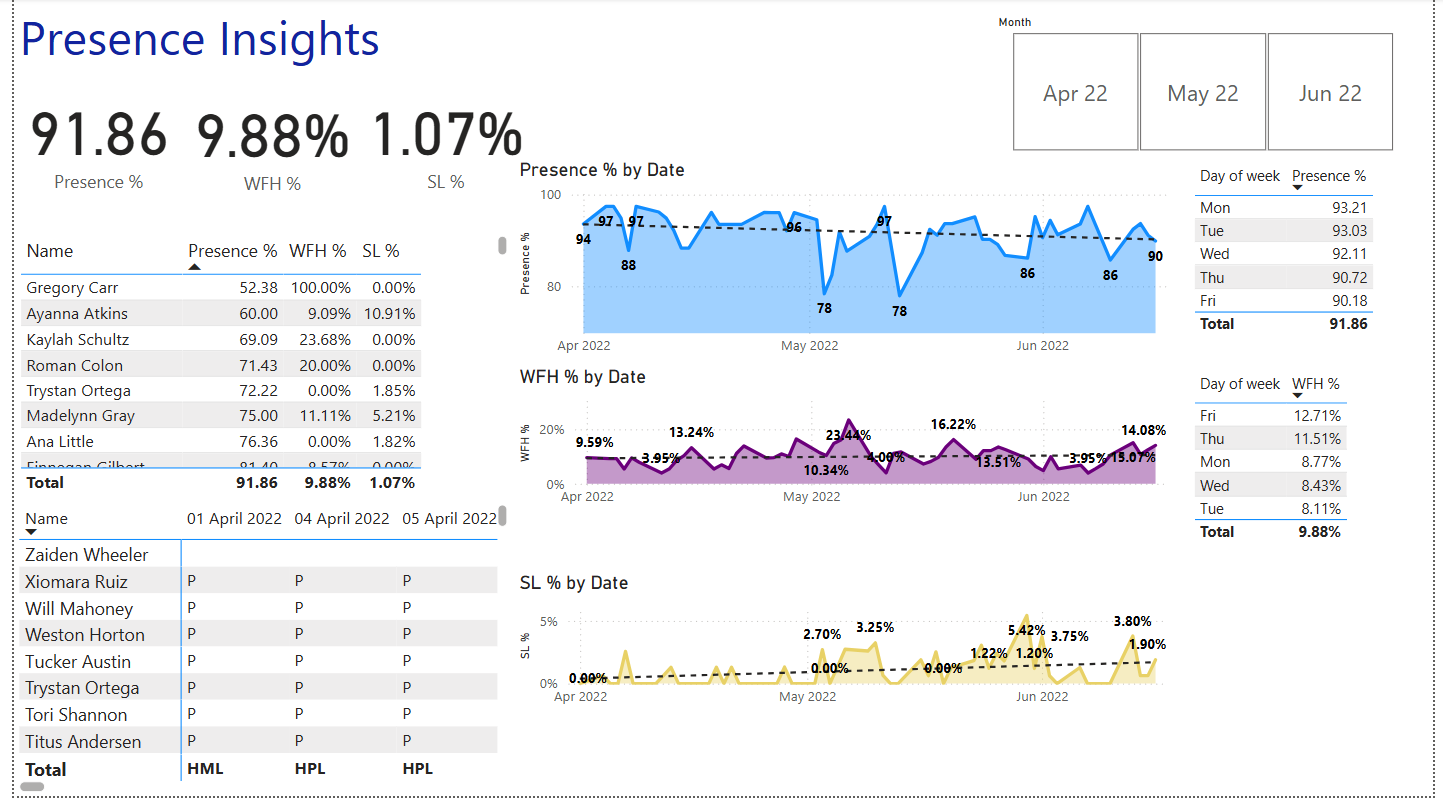

Layout of this report page (visuals, bound fields, positions):
{"tool":"powerbi","page":{"name":"Page 1","canvas":[1280,720],"ordinal":0},"visuals":[{"type":"card","fields":{"Values":["Measure Table.Presence %"]},"box":[0,75.6,152.9,102.5],"z":0},{"type":"slicer","fields":{"Values":["Final Data.Month"]},"box":[875.2,10.1,393.1,134.4],"z":1000},{"type":"card","fields":{"Values":["Measure Table.WFH %"]},"box":[152.9,77.3,159.6,100.8],"z":2000},{"type":"card","fields":{"Values":["Measure Table.SL %"]},"box":[312.4,75.6,154.5,102.5],"z":3000},{"type":"tableEx","fields":{"Values":["Final Data.Name","Measure Table.Presence %","Measure Table.WFH %","Measure Table.SL %"]},"box":[0,210,450.2,241.9],"z":4000},{"type":"textbox","box":[0,0,357.8,84],"z":5000},{"type":"pivotTable","fields":{"Rows":["Final Data.Name"],"Values":["Min(Final Data.Value)"],"Columns":["Final Data.Date"]},"box":[0,451.9,450.2,268.8],"z":6000},{"type":"areaChart","fields":{"Category":["Final Data.Date"],"Y":["Measure Table.Presence %"]},"box":[450.7,144,607.7,187.2],"z":7000},{"type":"areaChart","fields":{"Category":["Final Data.Date"],"Y":["Measure Table.WFH %"]},"box":[450.7,331.2,607.7,136.8],"z":8000},{"type":"areaChart","fields":{"Category":["Final Data.Date"],"Y":["Measure Table.SL %"]},"box":[450.7,517,607.7,131],"z":9000},{"type":"tableEx","fields":{"Values":["Final Data.Day of week","Measure Table.Presence %"]},"box":[1058.4,144.5,209.8,186.7],"z":10000},{"type":"tableEx","fields":{"Values":["Final Data.Day of week","Measure Table.WFH %"]},"box":[1058.4,331.2,210.2,187.2],"z":11000}]}

Visuals, with their boxes in screenshot pixels (x1, y1, x2, y2), scaled from the page's 1280x720 canvas onto the 1443x799 screenshot:
card - Measure Table.Presence %: 0 84 172 198
slicer - Final Data.Month: 987 11 1430 160
card - Measure Table.WFH %: 172 86 352 198
card - Measure Table.SL %: 352 84 526 198
tableEx - Final Data.Name x Measure Table.Presence %: 0 233 508 501
textbox: 0 0 403 93
pivotTable - Final Data.Name x Min(Final Data.Value): 0 501 508 798
areaChart - Final Data.Date x Measure Table.Presence %: 508 160 1193 368
areaChart - Final Data.Date x Measure Table.WFH %: 508 368 1193 519
areaChart - Final Data.Date x Measure Table.SL %: 508 574 1193 719
tableEx - Final Data.Day of week x Measure Table.Presence %: 1193 160 1430 368
tableEx - Final Data.Day of week x Measure Table.WFH %: 1193 368 1430 575
